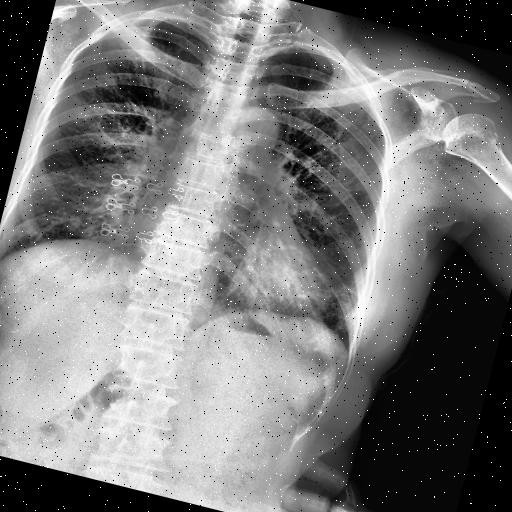0- Aortic enlargement: (230, 102, 284, 154)
3- Cardiomegaly: (128, 200, 342, 320), (122, 212, 342, 322), (125, 214, 336, 318)
